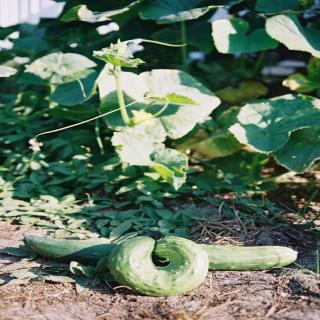Cucumber: (22, 234, 298, 297)
